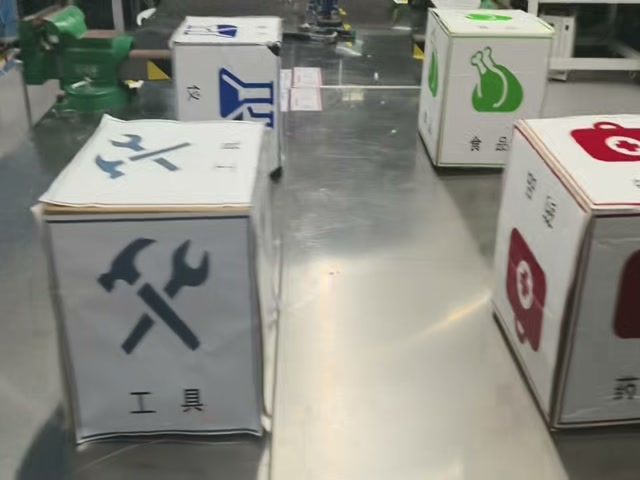Cube_food: (429, 9, 552, 45)
Cube_ins: (170, 16, 281, 48)
Cube_medicine: (515, 115, 639, 214)
Cube_tool: (39, 116, 265, 212)
